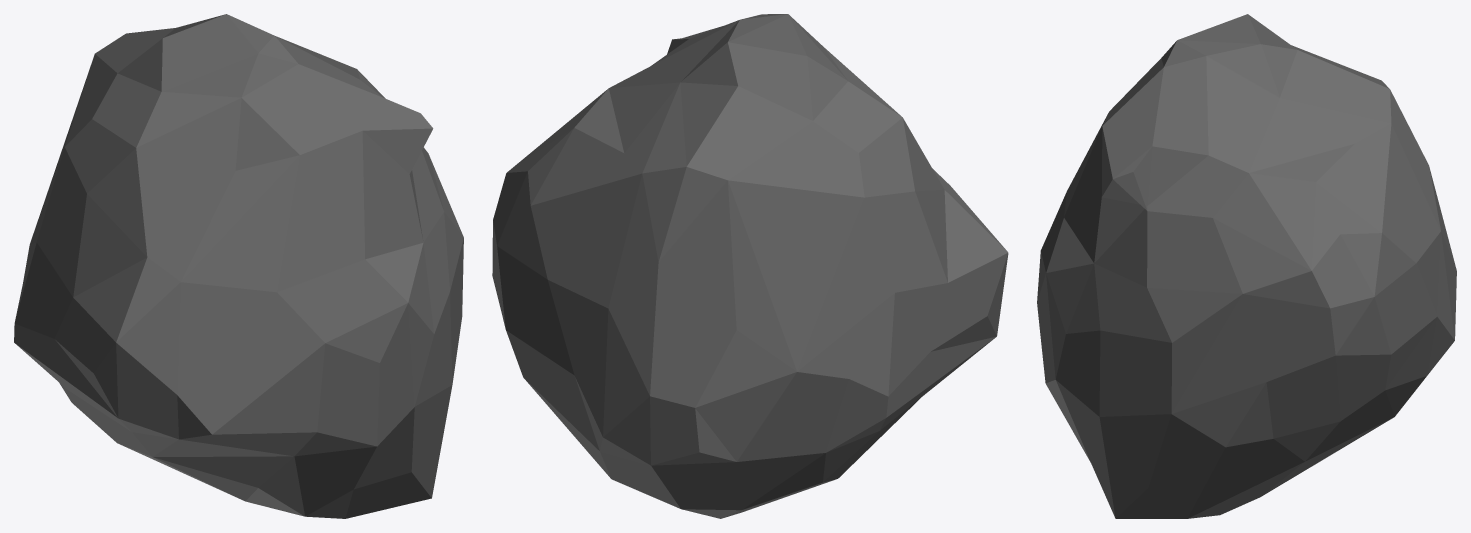
File: Stone_4.fbx
3 renders of one model, left to right at view 1: azimuth 30°, elevation 25°; view 2: azimuth 150°, elevation 25°; view 3: azimuth 270°, elevation 25°, orthographic. The views are drawn at different scales.
Parts seen in each view (by area): view 1: Stone_4; view 2: Stone_4; view 3: Stone_4.
Part boxes in pixels (x1,y1,x2,y2): Stone_4: [14, 14, 463, 518]; Stone_4: [492, 14, 1008, 518]; Stone_4: [1037, 14, 1456, 518].
Size of the model in its own units: 2.65 by 3.1 by 2.72.
